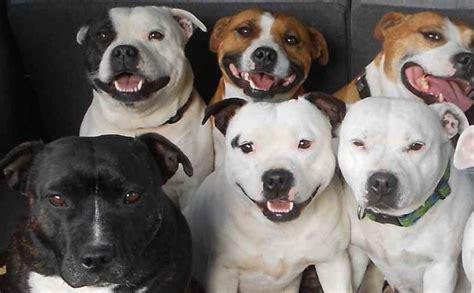dog: (183, 92, 348, 293), (2, 132, 194, 293), (337, 97, 468, 293), (76, 7, 214, 174), (333, 13, 474, 111), (208, 8, 328, 103)
